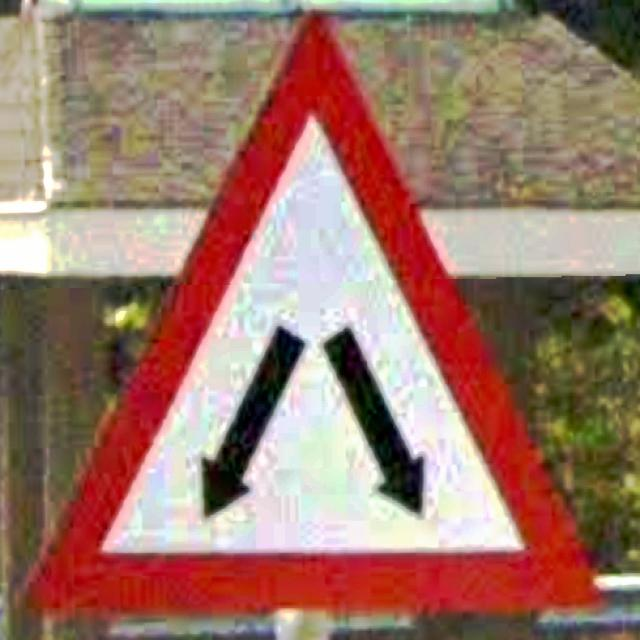diverge: (27, 14, 602, 616)
